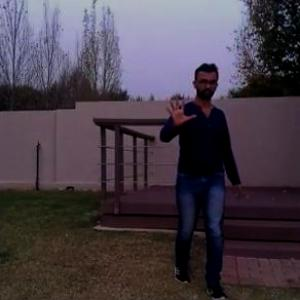follow_hand: (162, 90, 198, 128)
